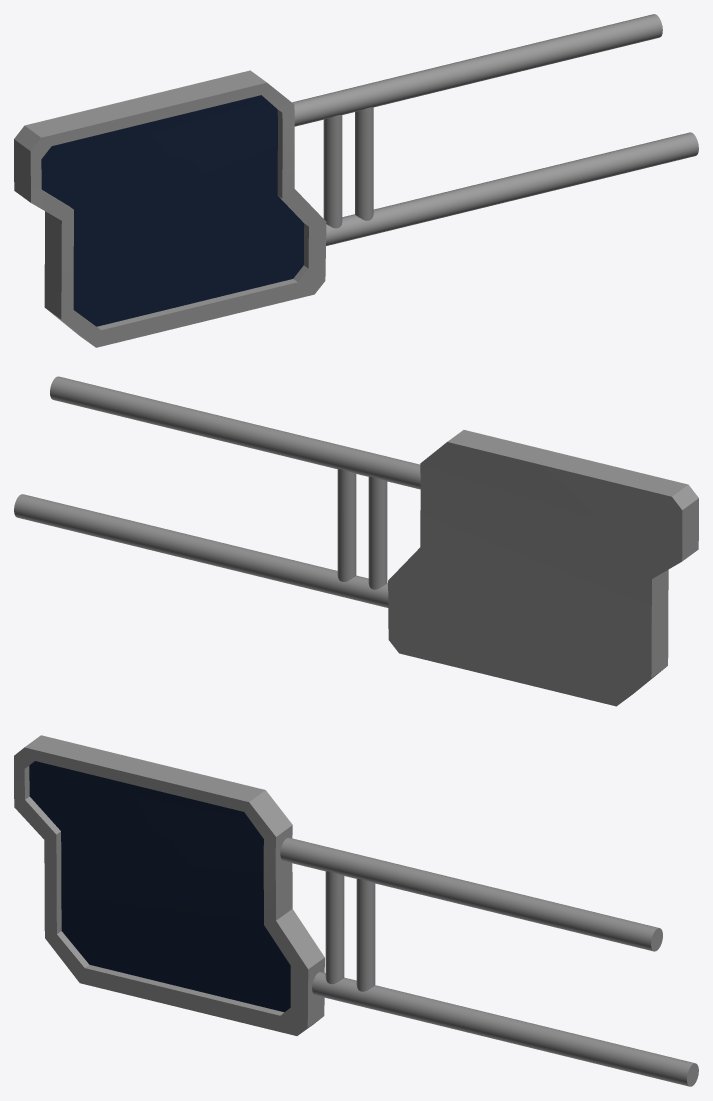
Rendered from _lay.FBX.
3 views of the same model, one above another, from view 1: azimuth 30°, elevation 25°; view 2: azimuth 150°, elevation 25°; view 3: azimuth 330°, elevation 25° (orthographic).
Visible parts, largest first — view 1: Group004, Box031, Cylinder041, Cylinder042, Cylinder043, Cylinder044; view 2: Box031, Cylinder041, Cylinder042, Cylinder043, Cylinder044; view 3: Group004, Box031, Cylinder041, Cylinder042, Cylinder043, Cylinder044.
Part boxes in pixels (x1,y1,x2,y2): Group004: [41, 95, 304, 326]; Box031: [14, 70, 326, 347]; Cylinder041: [292, 14, 662, 126]; Cylinder042: [326, 132, 698, 245]; Cylinder043: [323, 115, 342, 228]; Cylinder044: [355, 107, 373, 220]; Box031: [388, 430, 698, 706]; Cylinder041: [50, 376, 426, 489]; Cylinder042: [14, 494, 388, 607]; Cylinder043: [368, 476, 387, 589]; Cylinder044: [337, 469, 356, 581]; Group004: [29, 761, 290, 1012]; Box031: [14, 735, 324, 1035]; Cylinder041: [280, 837, 662, 951]; Cylinder042: [312, 972, 698, 1086]; Cylinder043: [325, 871, 344, 984]; Cylinder044: [356, 878, 375, 991].
Bounding box in the file's own units: 336 × 107 × 15.27.
